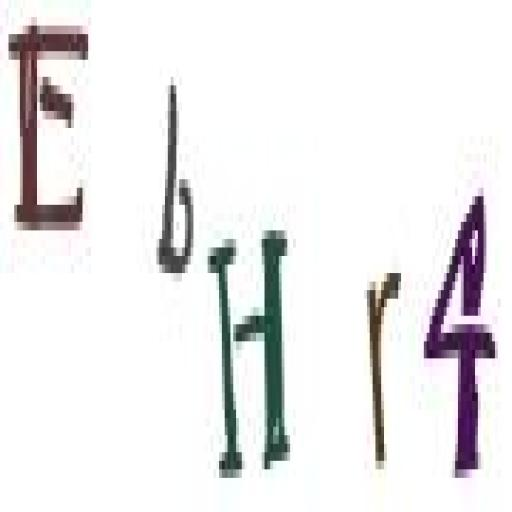4: (417, 172, 501, 492)
E: (9, 9, 94, 246)
H: (205, 209, 297, 494)
b: (154, 71, 199, 297)
r: (360, 250, 408, 489)
